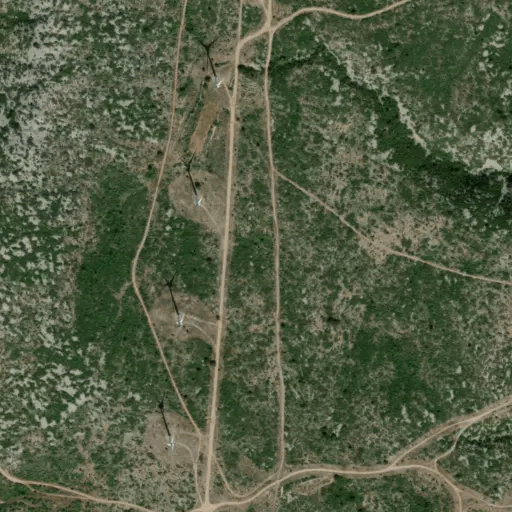wt: (195, 34, 224, 95), (178, 154, 205, 210), (155, 395, 179, 453), (164, 272, 186, 331)
